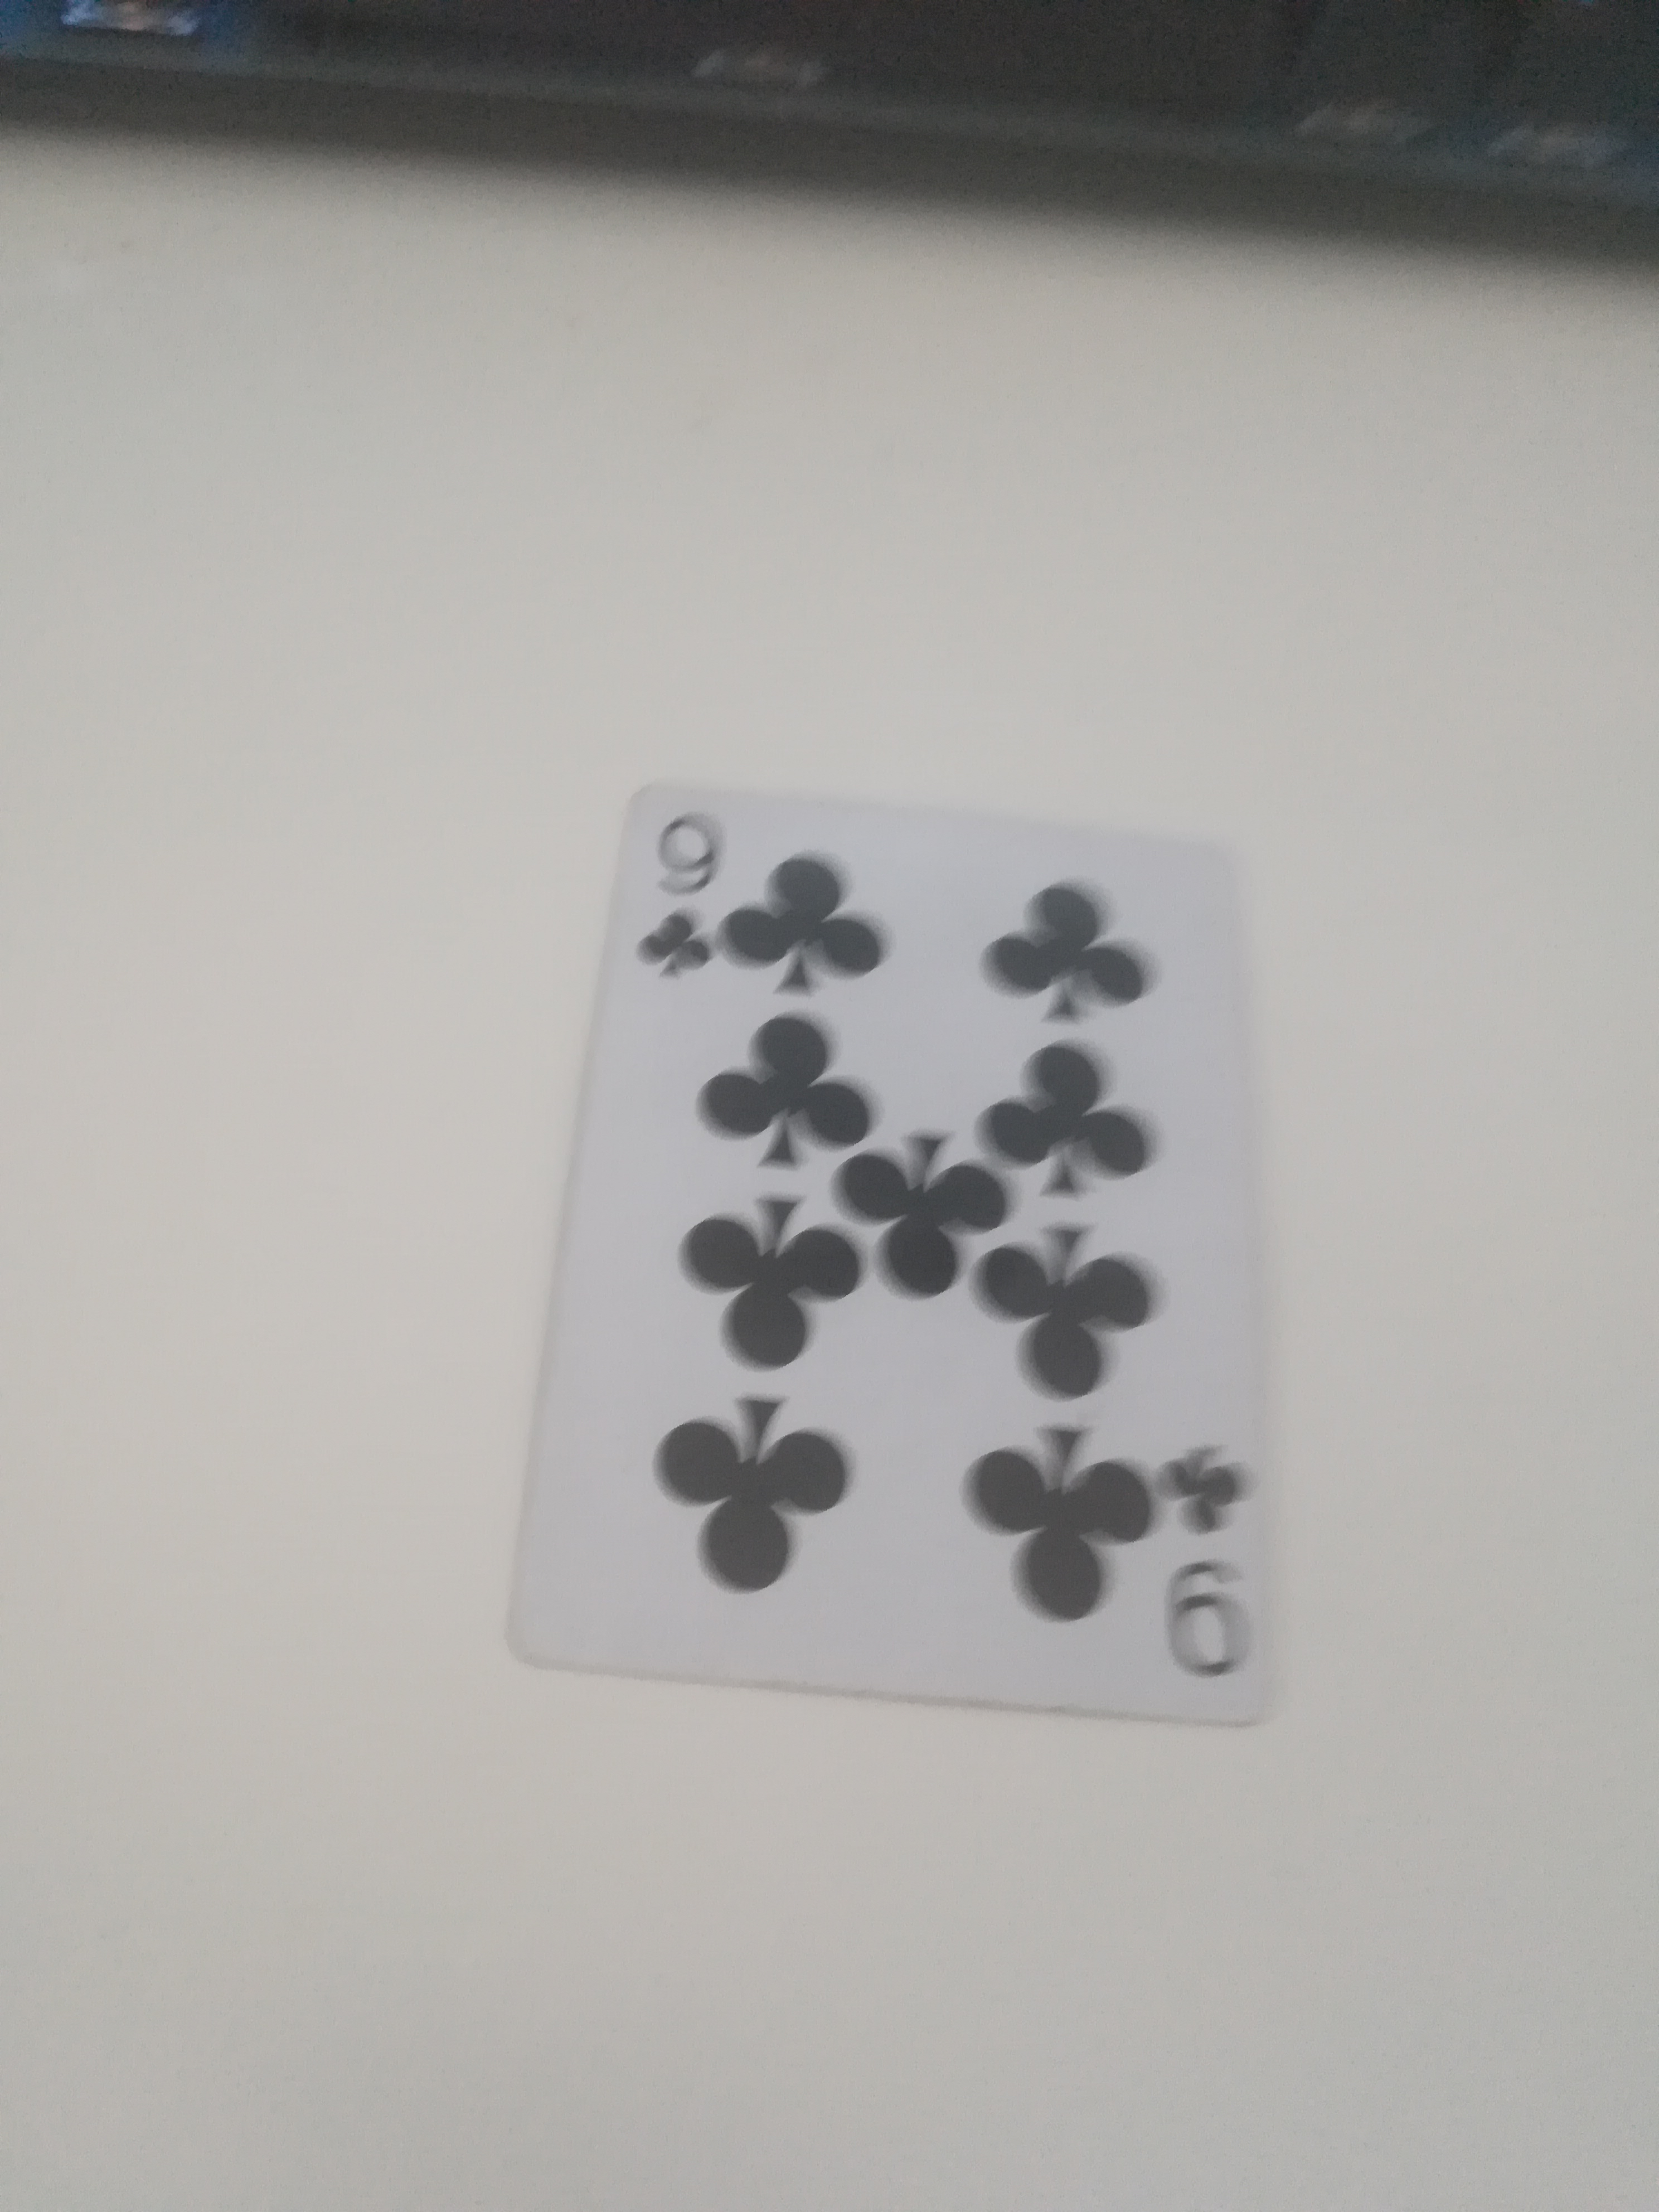9C: (523, 749, 1295, 1752)
